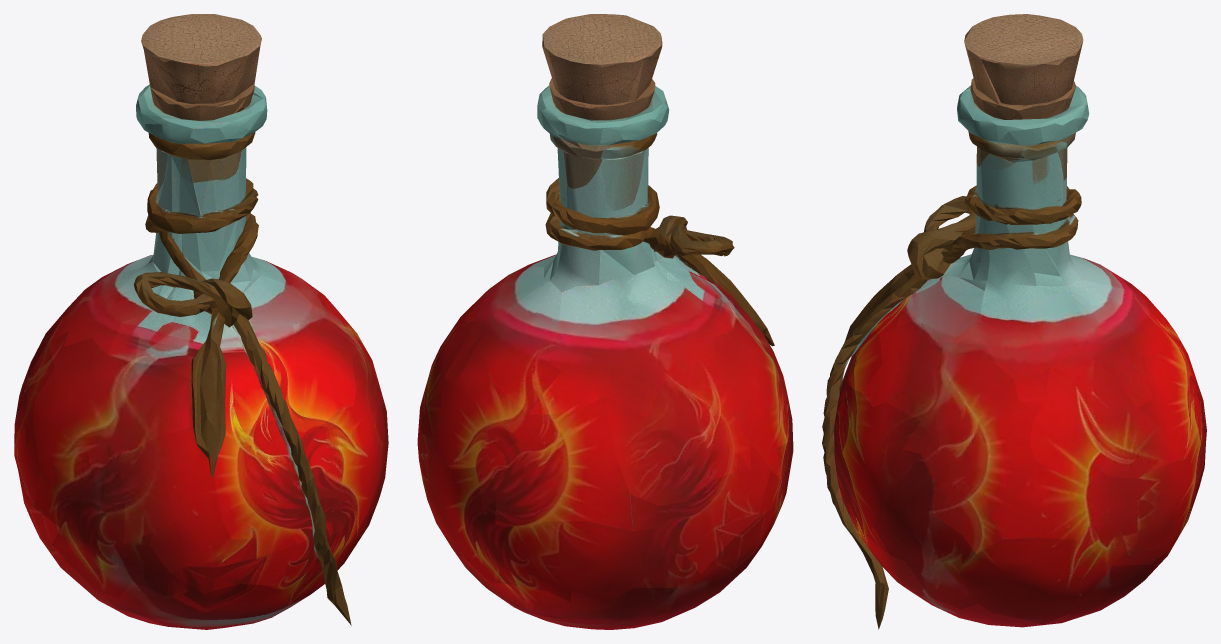
The model's file is potion.glb.
3 views of the same model, side by side, from view 1: azimuth 30°, elevation 25°; view 2: azimuth 150°, elevation 25°; view 3: azimuth 270°, elevation 25° (orthographic).
Size of the model in its own units: 1.16 by 1.9 by 1.19.
Materials: 1 (1 with a texture image).
